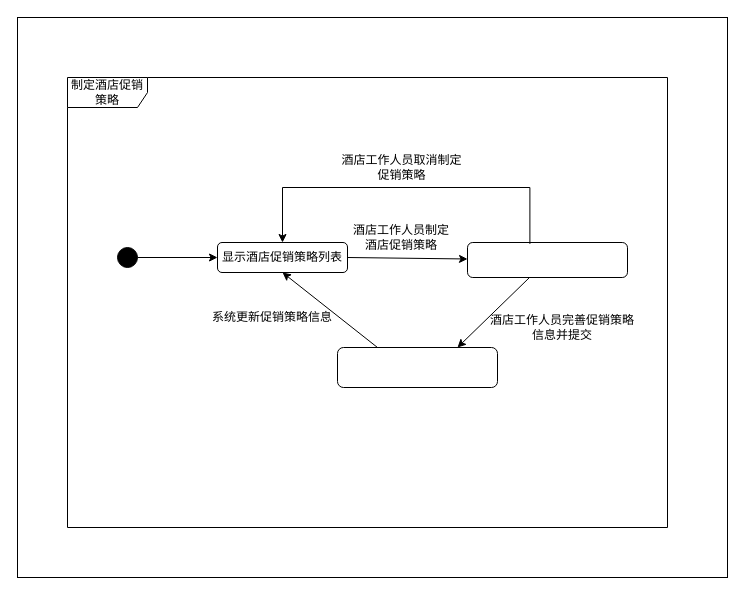
Image size: 745x595. Some labels were removed from this diagram. Each missing label, with the box of its shape:
显示添加促销策略成功: (336, 346, 498, 388)
显示空白促销策略模板: (466, 242, 628, 278)
